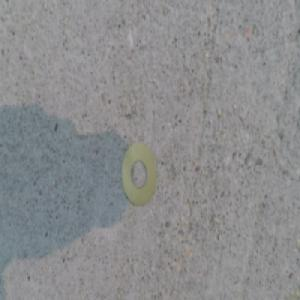Washer: (121, 141, 157, 207)
